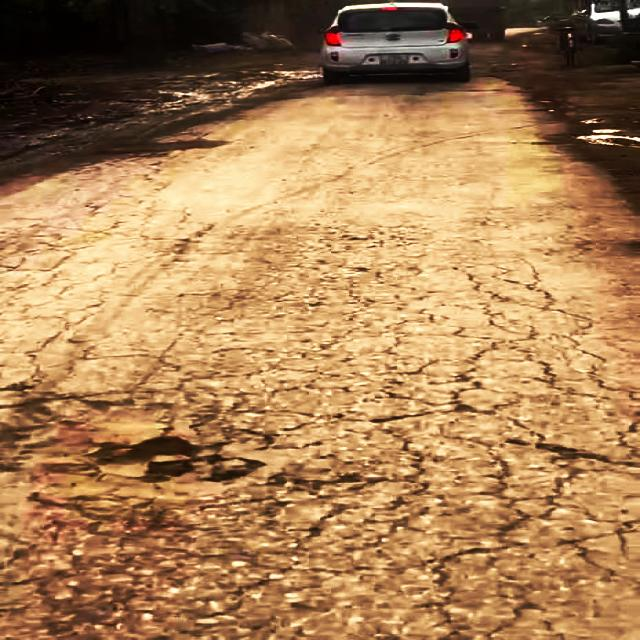pothole: (84, 431, 257, 484)
